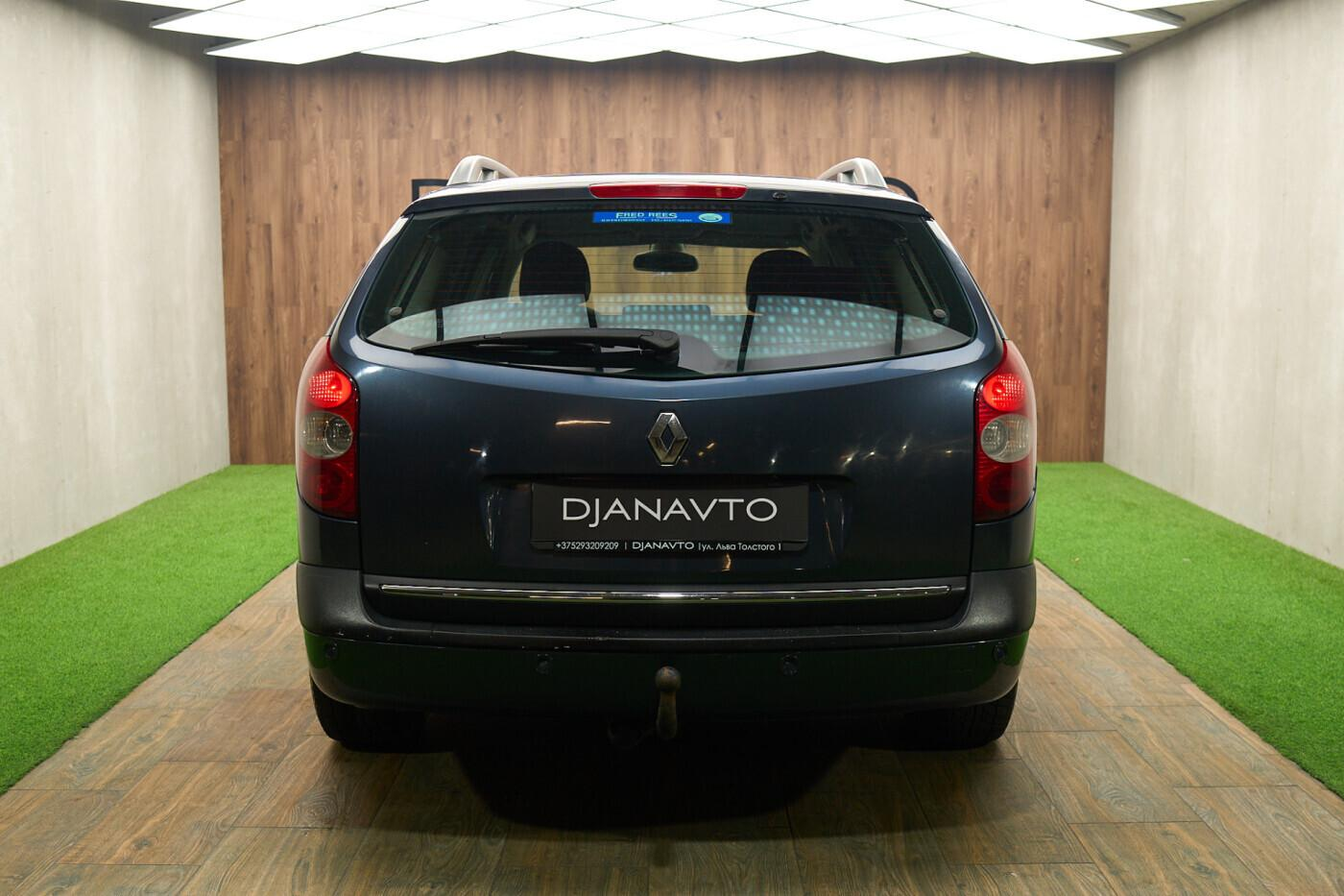Laguna_2005-2007: (292, 168, 1040, 761)
